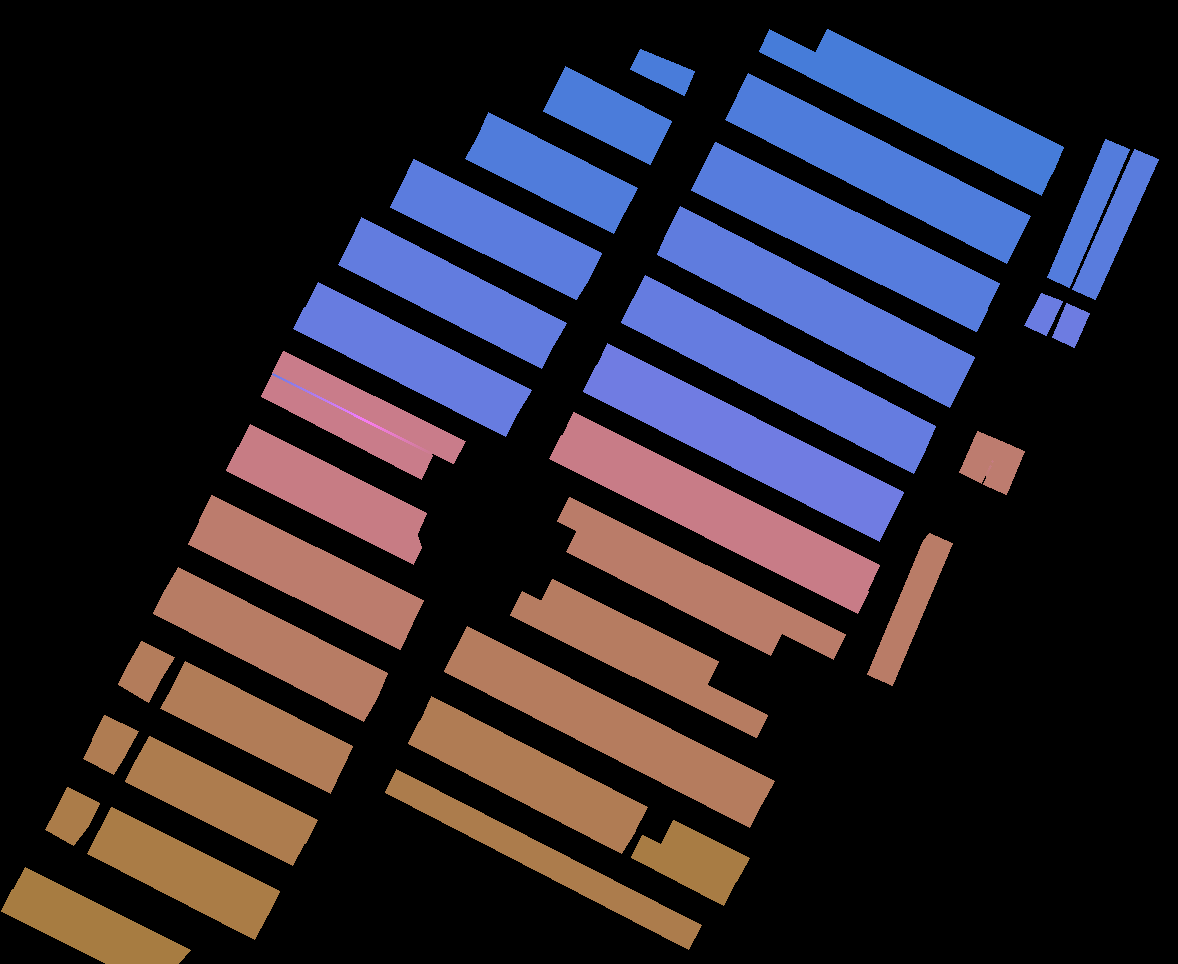parkingspot: (385, 769, 701, 949), (549, 435, 868, 613), (455, 626, 774, 804), (562, 412, 879, 591), (444, 649, 761, 827), (667, 206, 974, 383), (583, 365, 891, 541), (657, 231, 962, 407), (621, 298, 925, 473), (597, 343, 903, 516), (633, 275, 935, 449), (703, 142, 999, 309), (737, 73, 1030, 241), (691, 165, 987, 331), (725, 96, 1018, 263), (759, 29, 1051, 195), (557, 497, 845, 659), (510, 591, 767, 737), (815, 29, 1063, 173), (420, 696, 647, 831), (408, 721, 635, 853), (305, 282, 531, 413), (188, 517, 412, 649), (153, 589, 376, 721), (165, 567, 387, 699), (199, 495, 423, 625), (293, 307, 517, 436), (349, 217, 566, 345), (338, 243, 553, 368), (566, 530, 781, 655), (402, 159, 601, 278), (390, 183, 589, 299), (226, 447, 421, 564), (272, 351, 465, 463), (237, 424, 426, 536), (172, 661, 352, 770), (87, 830, 267, 939), (99, 807, 279, 915), (136, 736, 317, 843), (160, 687, 341, 793), (125, 759, 304, 865), (541, 579, 718, 684), (261, 374, 432, 479), (13, 867, 190, 963), (477, 112, 637, 212), (465, 137, 624, 233), (867, 533, 952, 685), (1072, 149, 1158, 299), (1047, 139, 1129, 287), (1, 889, 165, 963), (554, 66, 671, 143), (543, 89, 660, 164), (631, 835, 735, 905), (661, 820, 749, 881), (630, 49, 694, 95), (959, 431, 1001, 483), (983, 441, 1024, 494), (92, 715, 138, 754), (55, 787, 99, 827), (118, 662, 161, 702), (129, 641, 174, 678), (1052, 303, 1089, 347), (1024, 293, 1062, 335), (83, 739, 125, 774), (45, 811, 87, 845)
